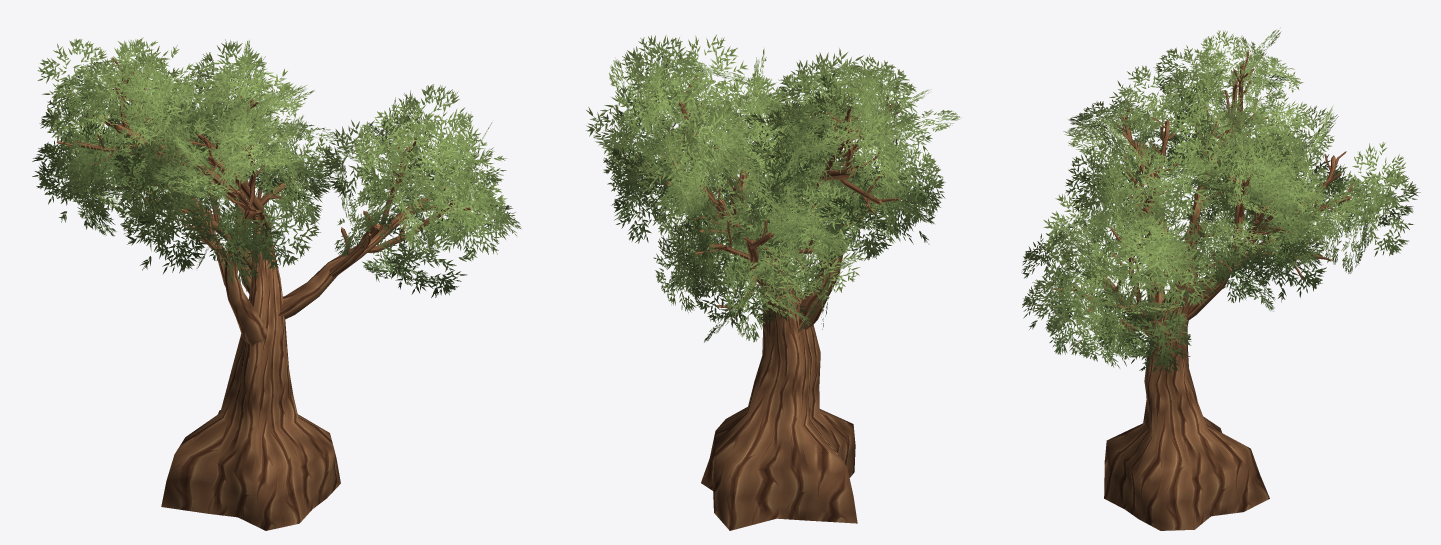
The model's file is ct_lance_0.gltf.
The picture shows the model from 3 angles, left to right: view 1: azimuth 30°, elevation 25°; view 2: azimuth 150°, elevation 25°; view 3: azimuth 270°, elevation 25°; orthographic projection. The views are drawn at different scales.
Visible parts, largest first — view 1: ct_lance_0_leaves_LOD0, ct_lance_0_trunk_LOD0; view 2: ct_lance_0_leaves_LOD0, ct_lance_0_trunk_LOD0; view 3: ct_lance_0_leaves_LOD0, ct_lance_0_trunk_LOD0.
Part boxes in pixels (<box>): ct_lance_0_leaves_LOD0: <box>32,37,521,297</box>; ct_lance_0_trunk_LOD0: <box>56,57,470,530</box>; ct_lance_0_leaves_LOD0: <box>586,34,960,342</box>; ct_lance_0_trunk_LOD0: <box>637,75,899,530</box>; ct_lance_0_leaves_LOD0: <box>1021,27,1420,373</box>; ct_lance_0_trunk_LOD0: <box>1054,51,1353,530</box>.
Size of what is drawn, in the model's own units: 8.34 by 8.65 by 7.68.
Materials: 2 (2 with a texture image).
